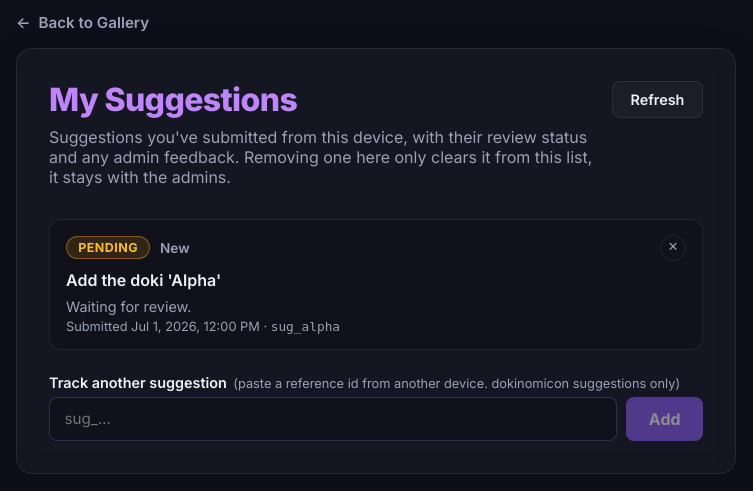
Test: SuggestionStatus › removes a row locally without refetching
Expected: the text "pending" is shown, [66,236,150,260]
Click the button named "Remove sug_alpha from this list" at (673, 248), box [660,235,686,261]
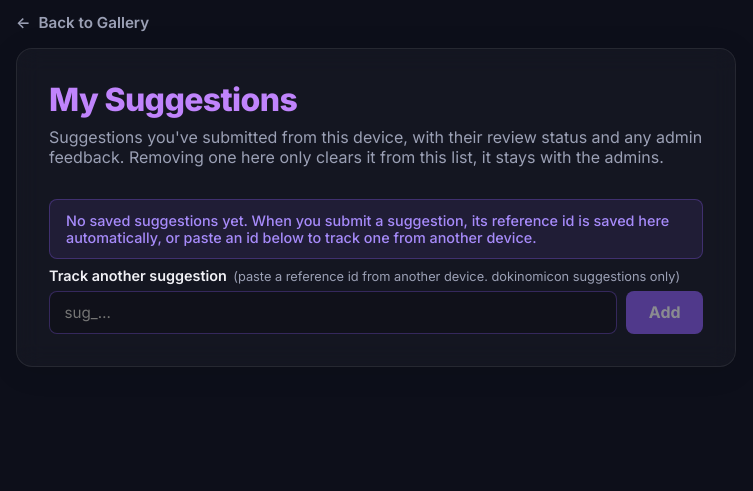
Now the text "pending" is gone
Now the text "No saved suggestions yet" is shown, box [66,212,669,246]
